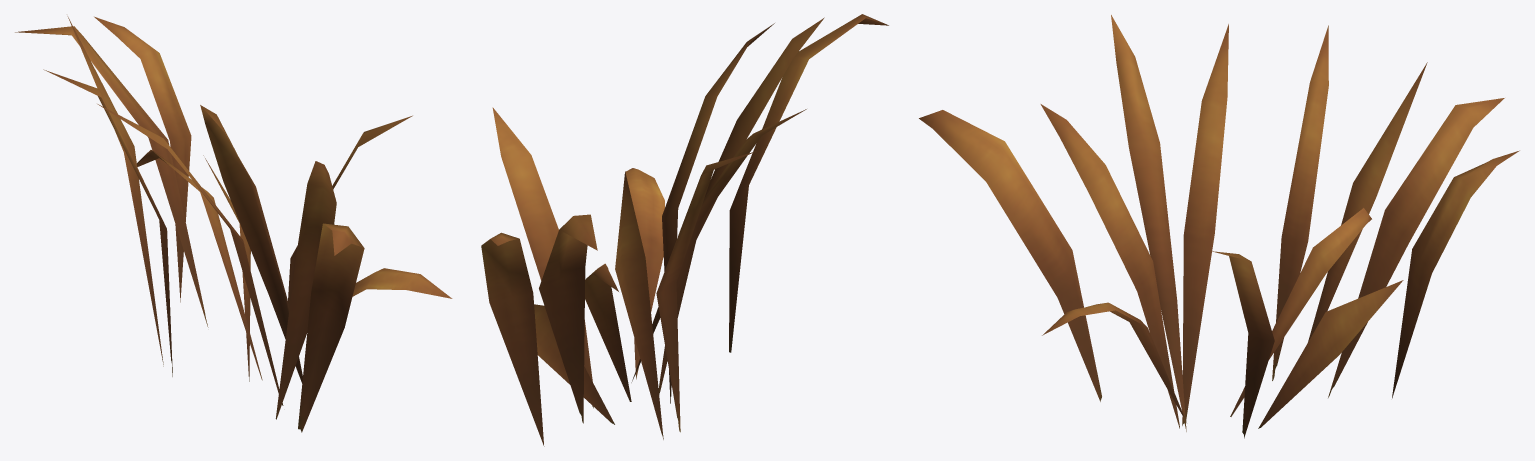
File: cao_01.FBX
3 views of the same model, side by side, from view 1: azimuth 30°, elevation 25°; view 2: azimuth 150°, elevation 25°; view 3: azimuth 270°, elevation 25° (orthographic). The views are drawn at different scales.
Visible parts, largest first — view 1: cao_01; view 2: cao_01; view 3: cao_01.
Part boxes in pixels (x1,y1,x2,y2): cao_01: [15, 16, 452, 432]; cao_01: [481, 14, 888, 446]; cao_01: [919, 15, 1519, 438].
Bounding box in the file's own units: 0.7886 × 0.9173 × 1.34.
